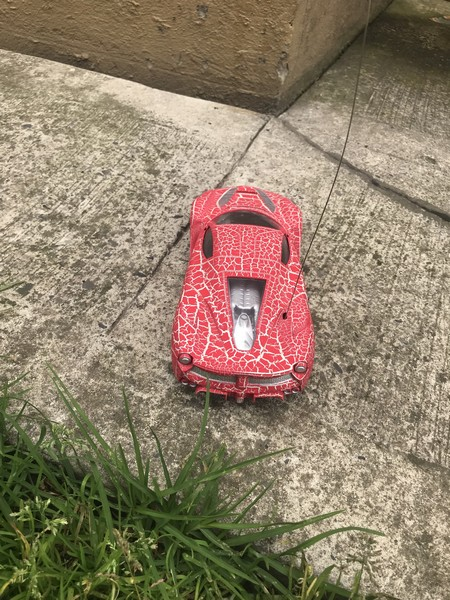RC: (169, 182, 318, 414)
